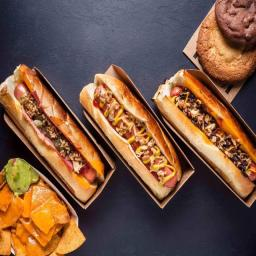hotdog: (0, 62, 106, 222), (76, 68, 184, 216), (147, 70, 256, 210)
